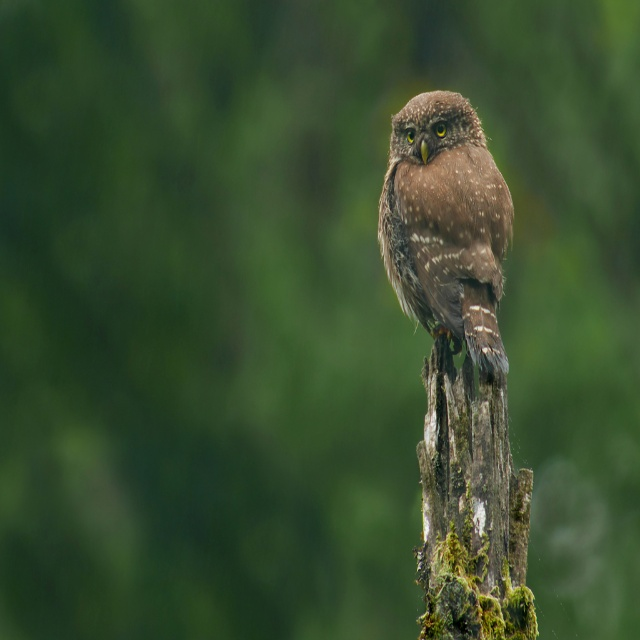Owl: (379, 82, 515, 383)
